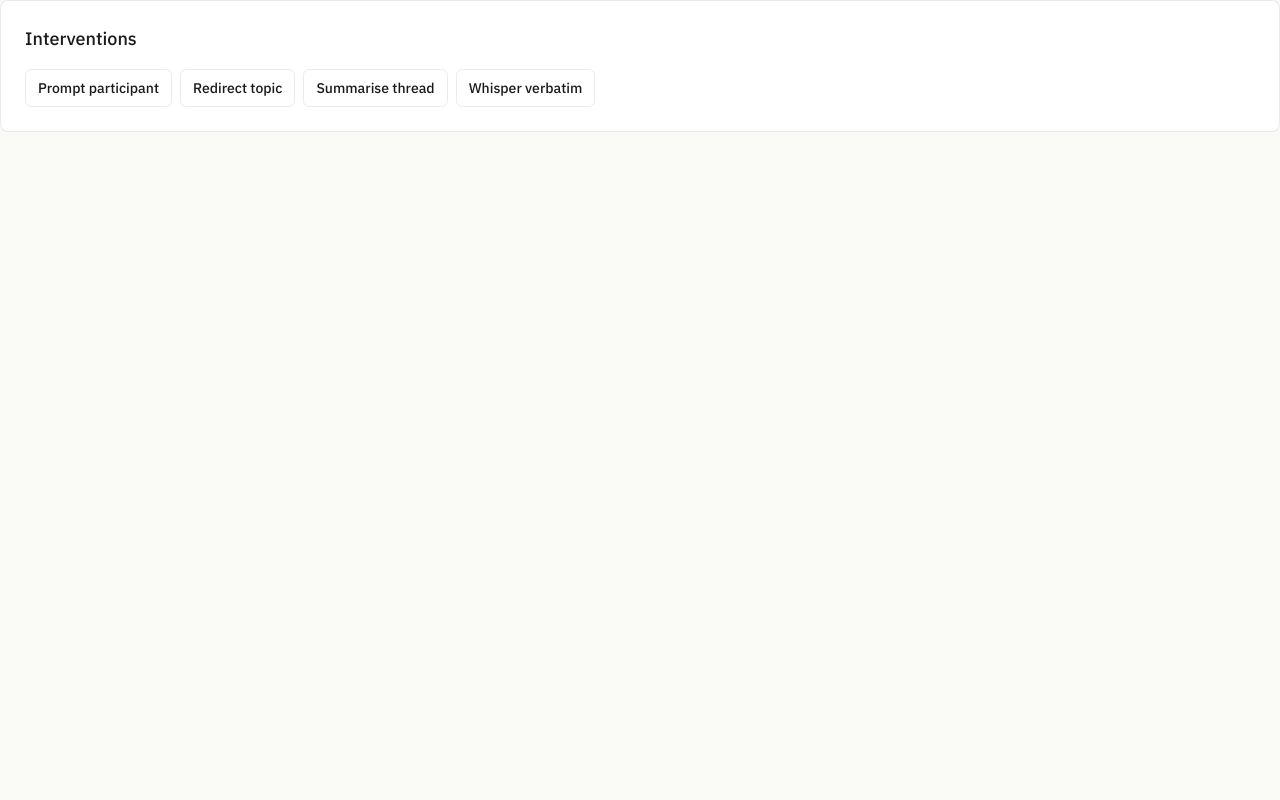
it: <InterventionModals /> — force_prompt › keeps the submit button disabled while the hint is empty
This screenshot has width=1280, height=800.
Click the button "Prompt participant": (98, 88) [25,69,172,107]
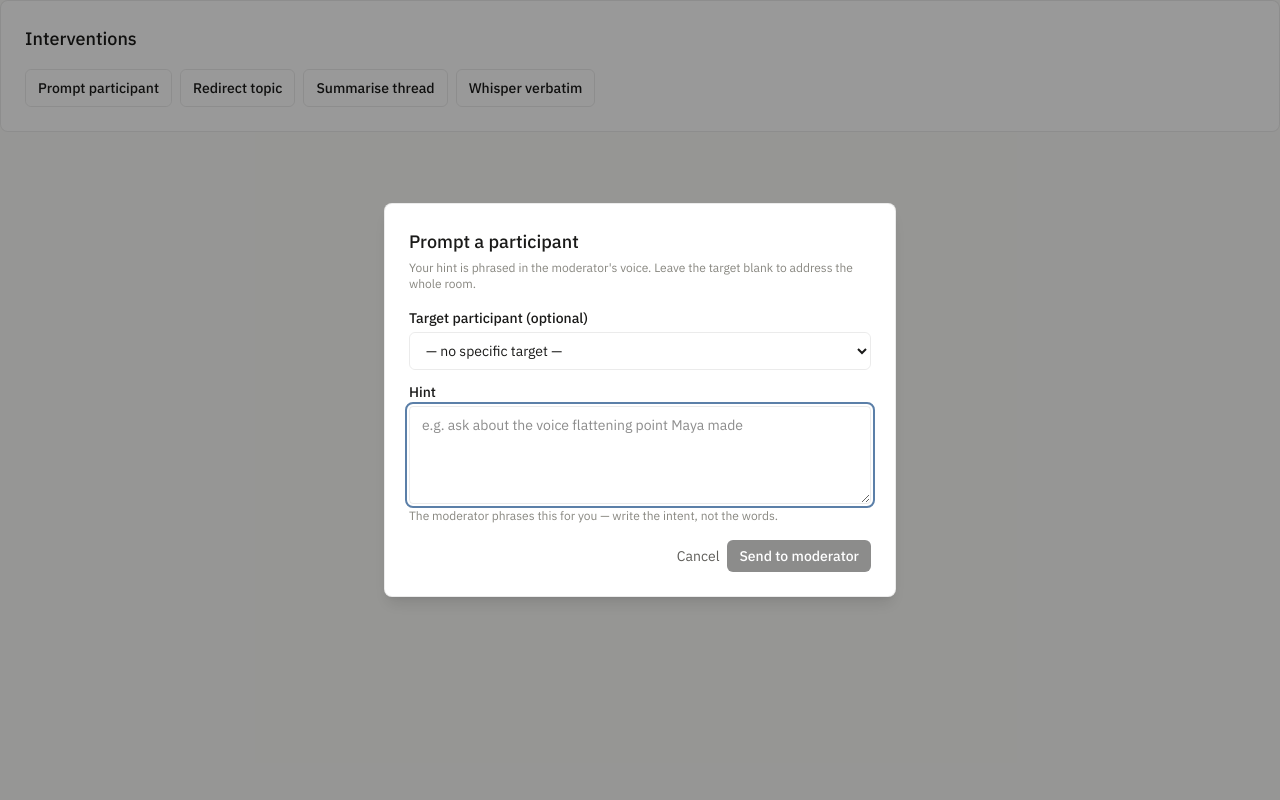
Expected: the dialog is shown, [384,203,896,597]
Expected: the button "Send to moderator" is disabled, [727,540,871,572]
In the text box labelled "Hint": (640, 455) [409,406,871,504], type "ask about the trust point"
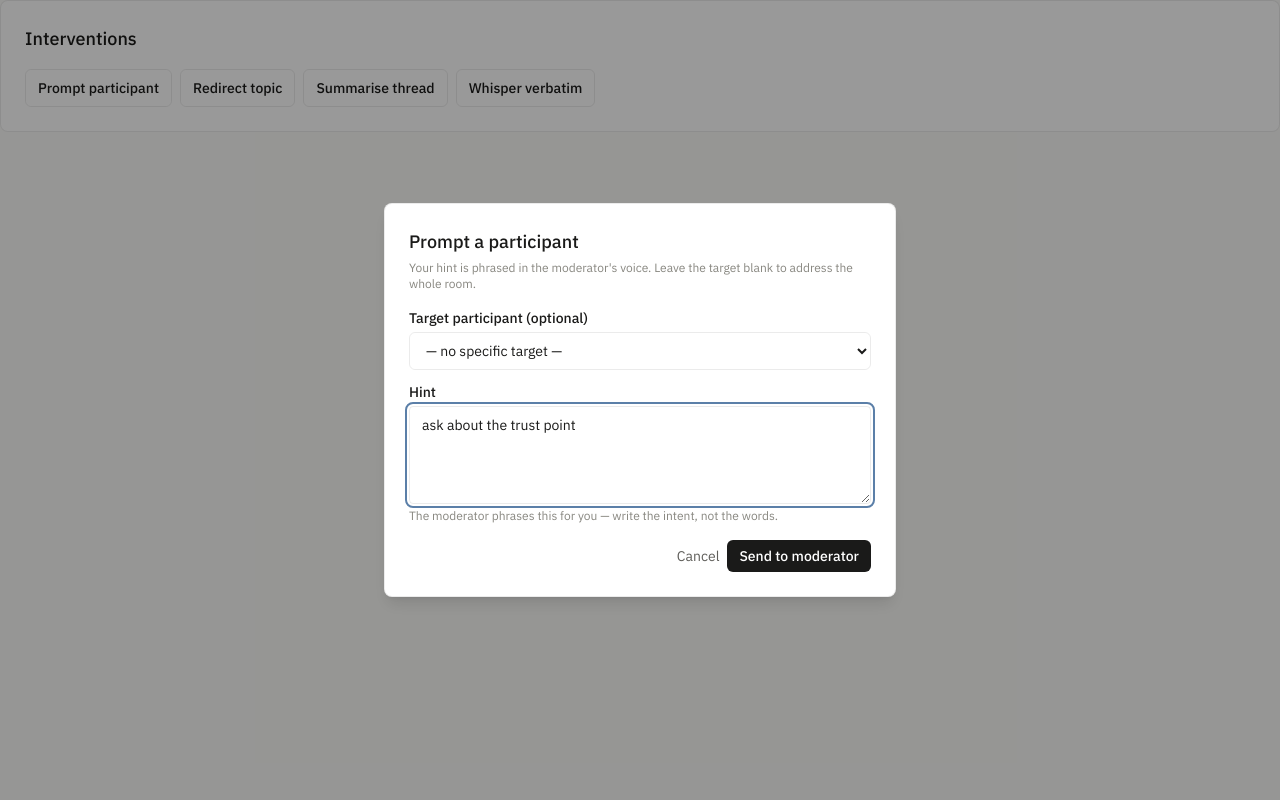
Expected: the button "Send to moderator" is enabled, [727,540,871,572]
